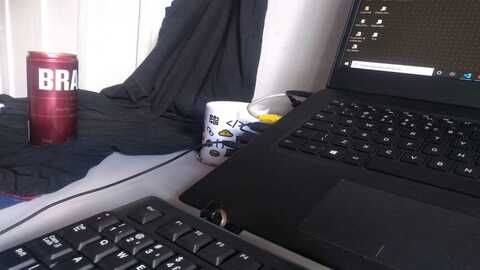duplo_malte: (19, 44, 84, 148)
